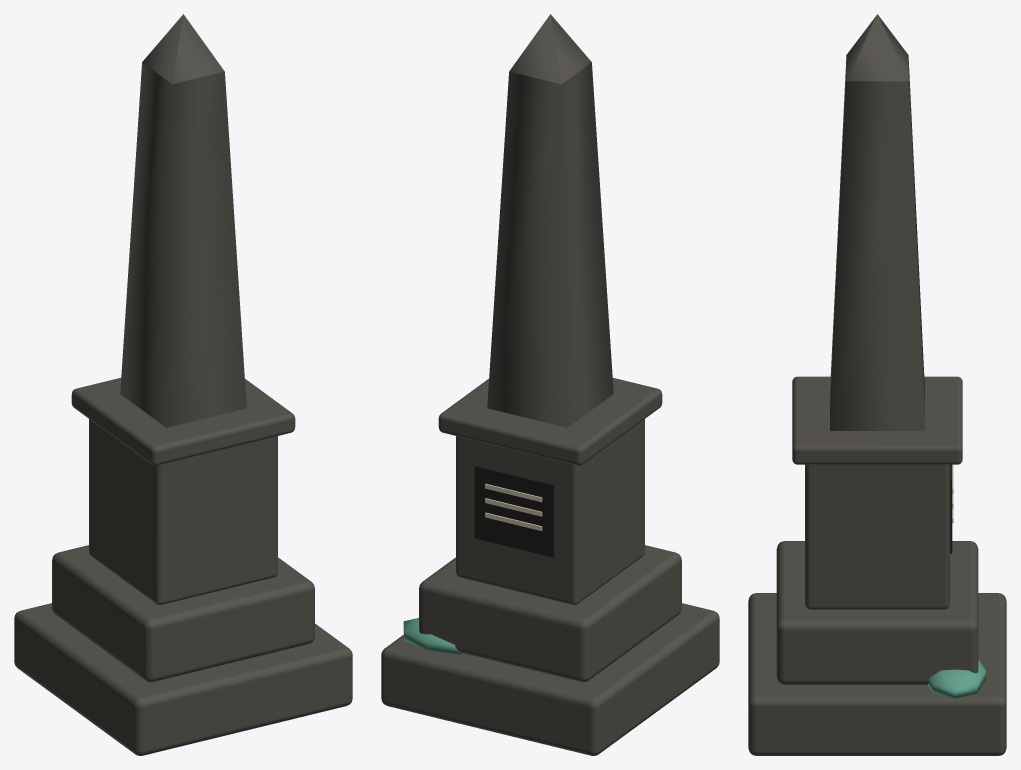
Rendered from GRAVE_OBELISK.glb.
The picture shows the model from 3 angles, left to right: view 1: azimuth 30°, elevation 25°; view 2: azimuth 150°, elevation 25°; view 3: azimuth 270°, elevation 25°; orthographic projection. The views are drawn at different scales.
Parts seen in each view (by area): view 1: concreteProp_0; view 2: concreteProp_0, tread_1, bone_2, copper_3; view 3: concreteProp_0, copper_3.
Part boxes in pixels (x1,y1,x2,y2): concreteProp_0: (14, 14, 352, 755); concreteProp_0: (381, 14, 719, 755); tread_1: (474, 465, 554, 557); bone_2: (485, 483, 542, 530); copper_3: (403, 617, 463, 654); concreteProp_0: (748, 14, 1006, 755); copper_3: (928, 659, 985, 698).
Bounding box in the file's own units: 0.9502 × 2.8 × 0.95.
